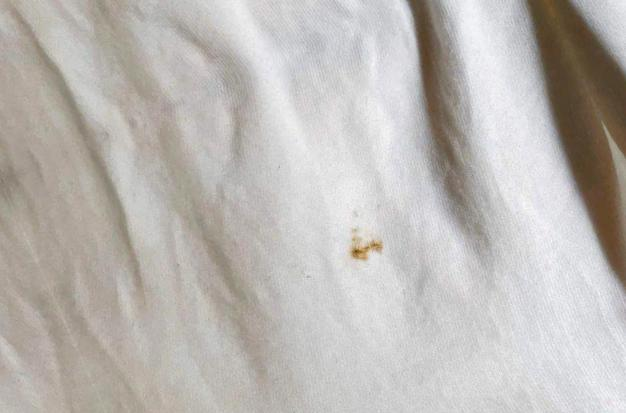stain: (344, 222, 387, 270)
